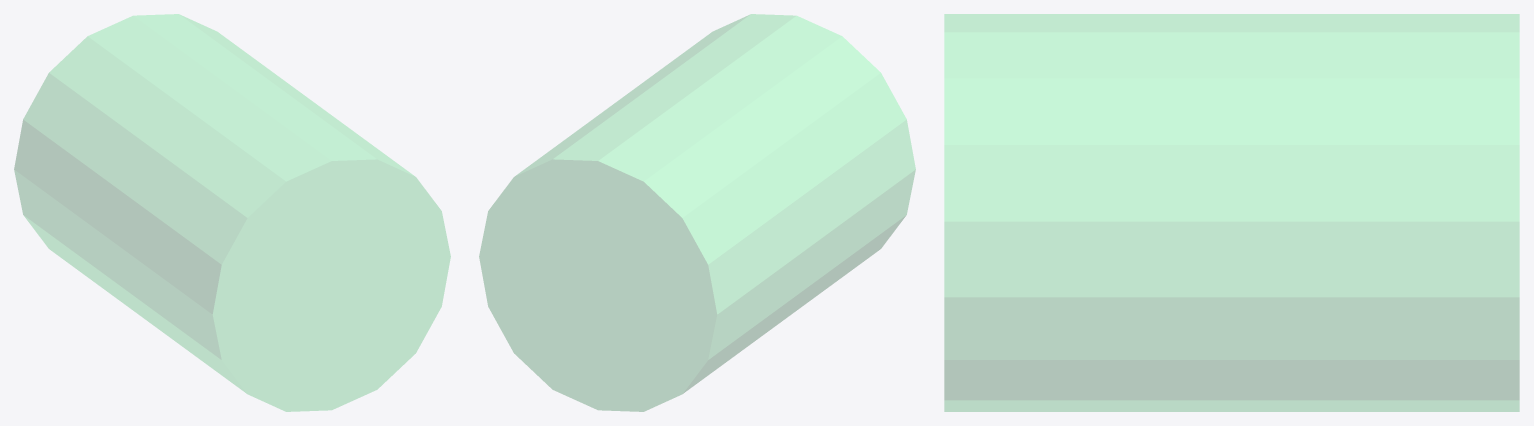
File: collision_cylinder_proxy.glb
3 renders of one model, left to right at view 1: azimuth 30°, elevation 25°; view 2: azimuth 150°, elevation 25°; view 3: azimuth 270°, elevation 25°, orthographic. The views are drawn at different scales.
Parts seen in each view (by area): view 1: collision_cylinder_proxy; view 2: collision_cylinder_proxy; view 3: collision_cylinder_proxy.
Part boxes in pixels (x1,y1,x2,y2): collision_cylinder_proxy: (14, 14, 450, 411); collision_cylinder_proxy: (479, 14, 915, 411); collision_cylinder_proxy: (944, 14, 1519, 411).
Bounding box in the file's own units: 0.9 × 0.9 × 1.3.
